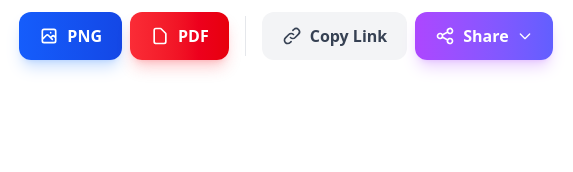
CertificateActions › shows 'Copied!' when copy link is clicked
Click the button "Copy Link".
click(334, 36)  # box [262, 12, 407, 60]
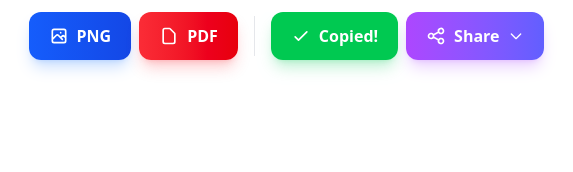
Expected: the text "Copied!" is shown, [319, 24, 378, 48]
